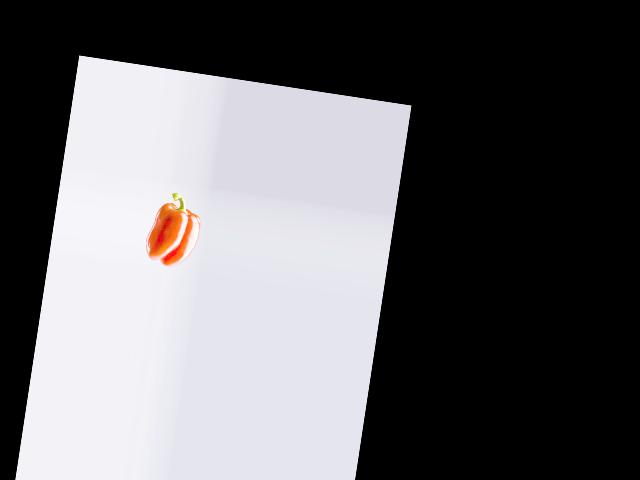bell_pepper: (142, 188, 207, 268)
